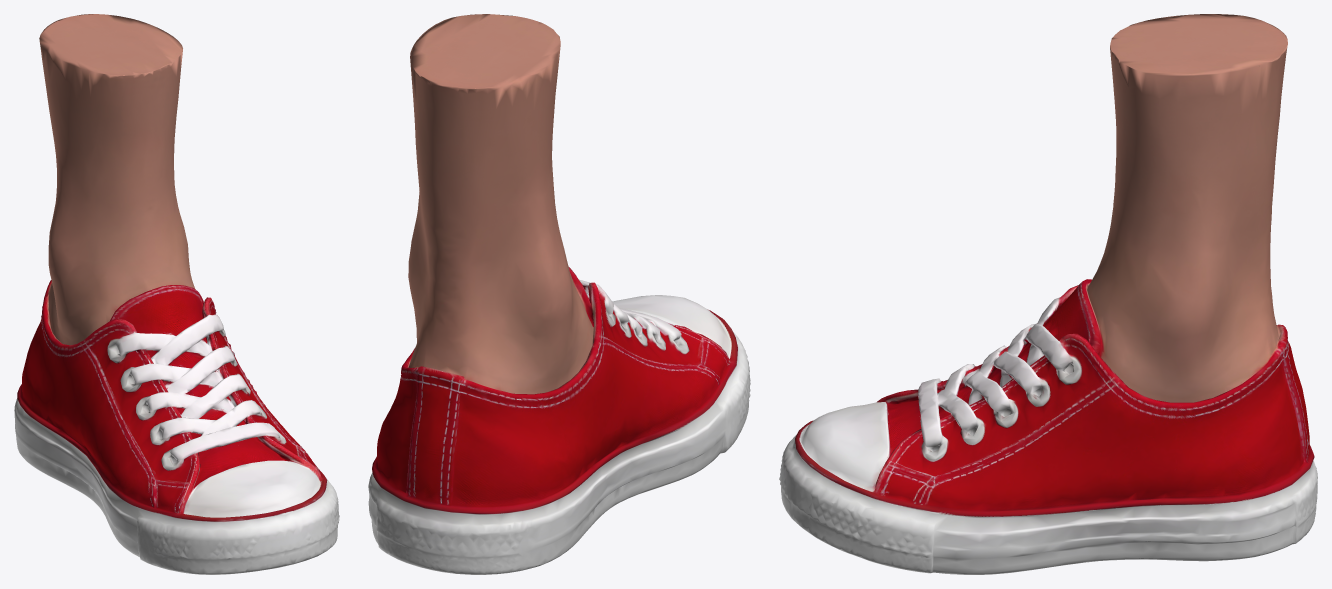
Rendered from red_sneakers_left.glb.
3 renders of one model, left to right at view 1: azimuth 30°, elevation 25°; view 2: azimuth 150°, elevation 25°; view 3: azimuth 270°, elevation 25°, orthographic. The views are drawn at different scales.
Parts seen in each view (by area): view 1: tripo_node_796b230e-a9ed-40c5-8ec7-6bd87c21d407; view 2: tripo_node_796b230e-a9ed-40c5-8ec7-6bd87c21d407; view 3: tripo_node_796b230e-a9ed-40c5-8ec7-6bd87c21d407.
Part boxes in pixels (box(x1,y1,x2,y2)): tripo_node_796b230e-a9ed-40c5-8ec7-6bd87c21d407: box(14, 14, 339, 574); tripo_node_796b230e-a9ed-40c5-8ec7-6bd87c21d407: box(368, 14, 750, 574); tripo_node_796b230e-a9ed-40c5-8ec7-6bd87c21d407: box(779, 14, 1317, 574).
Bounding box in the file's own units: 0.4669 × 0.9585 × 0.9806.
Materials: 1 (1 with a texture image).
